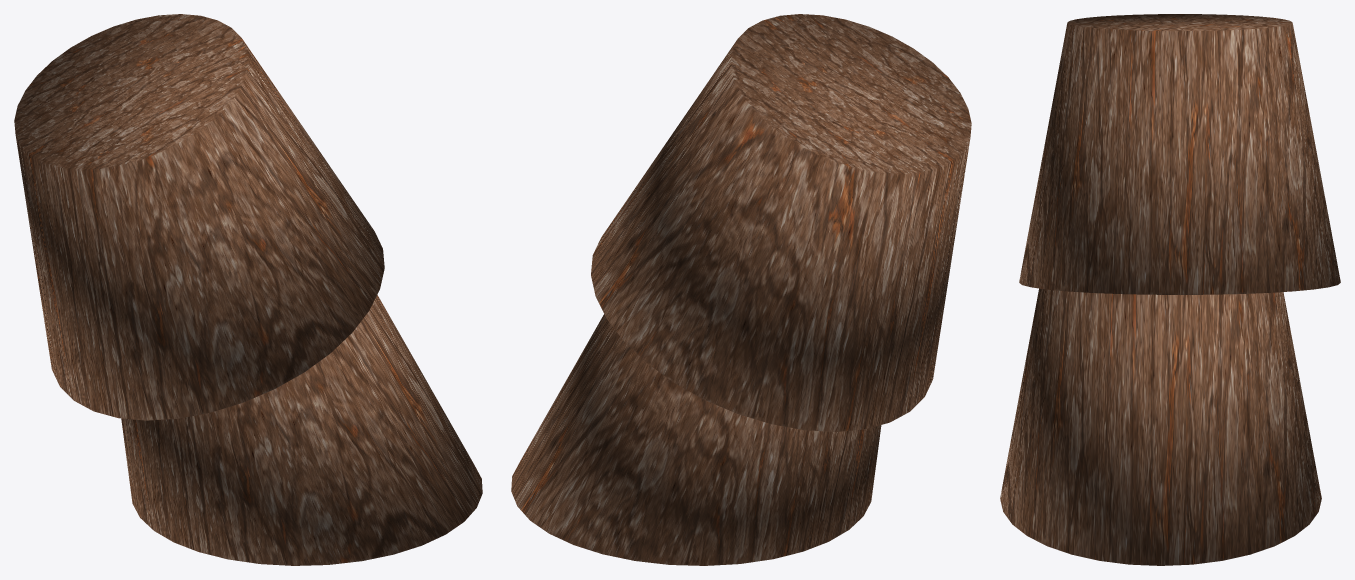
File: Palma_Dol.fbx
The picture shows the model from 3 angles, left to right: view 1: azimuth 30°, elevation 25°; view 2: azimuth 150°, elevation 25°; view 3: azimuth 270°, elevation 25°; orthographic projection. The views are drawn at different scales.
Parts seen in each view (by area): view 1: DOL_PALMY; view 2: DOL_PALMY; view 3: DOL_PALMY.
Part boxes in pixels (left/top/right/bottom): DOL_PALMY: left=14, top=14, right=482, bottom=565; DOL_PALMY: left=511, top=14, right=971, bottom=565; DOL_PALMY: left=1000, top=14, right=1340, bottom=565.
Bounding box in the file's own units: 71.92 × 77.74 × 54.57.
1 material, 1 textured.
